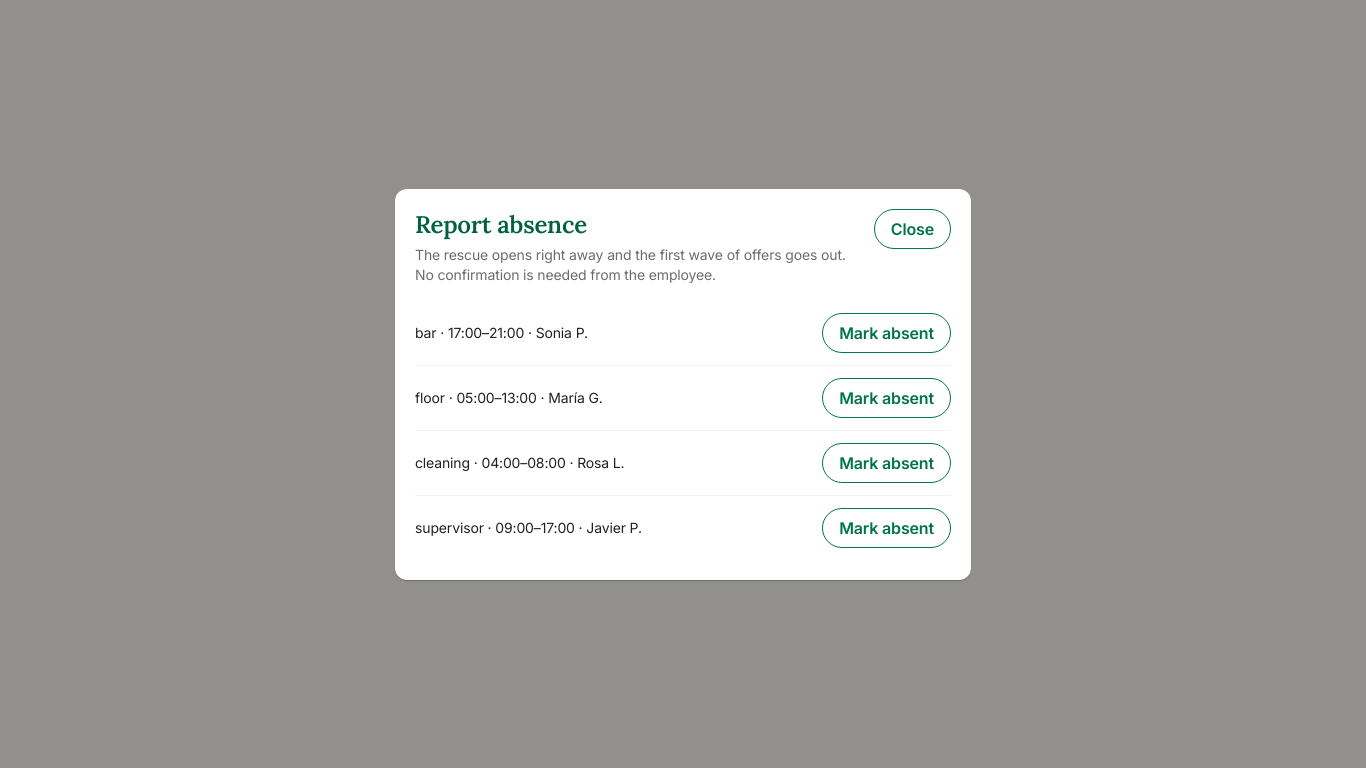
Scenario: ReportAbsenceDialog › shows the server refusal when the shift already has a rescue
Step 1. Click the button "Mark absent" in the row of "bar · 17:00–21:00 · Sonia P." → (887, 332), box [822,312,951,352]
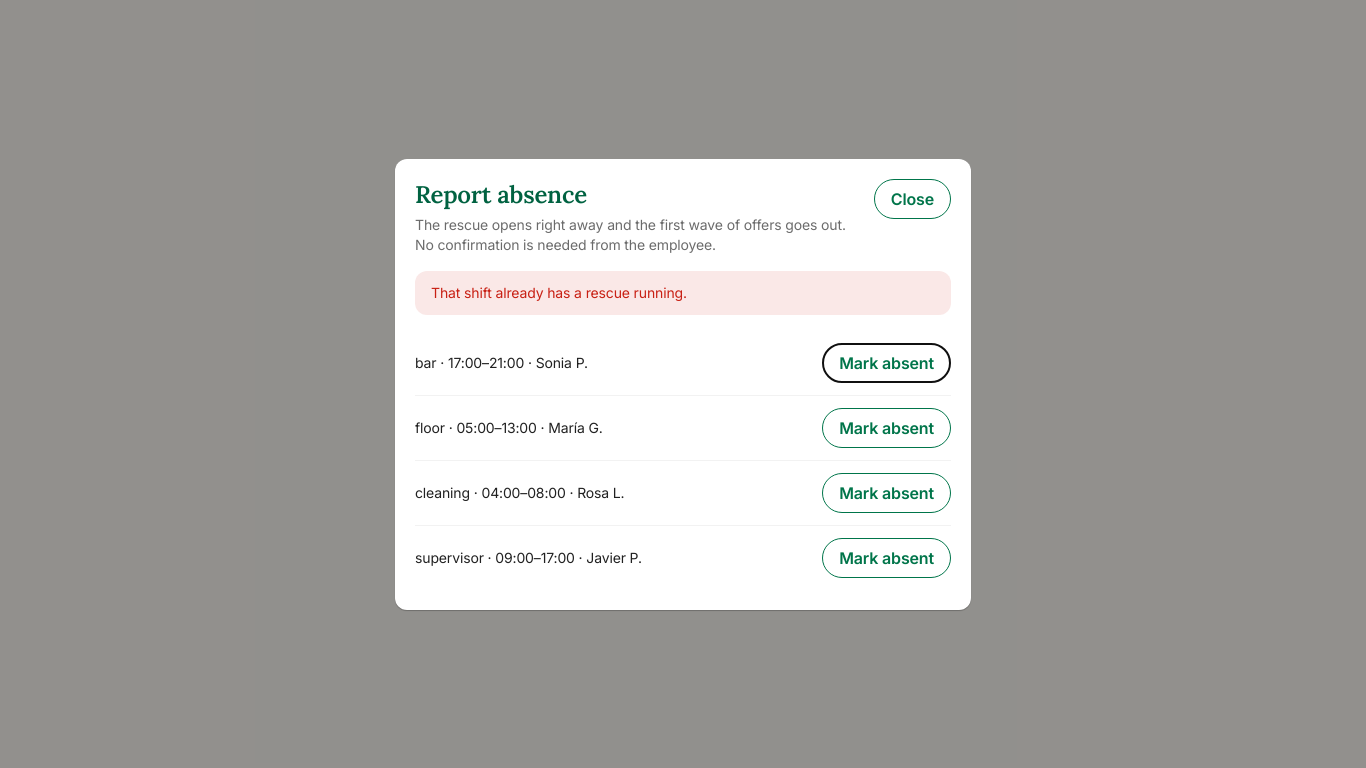
Expected: the message shows "already has a rescue", [431,284,687,300]
